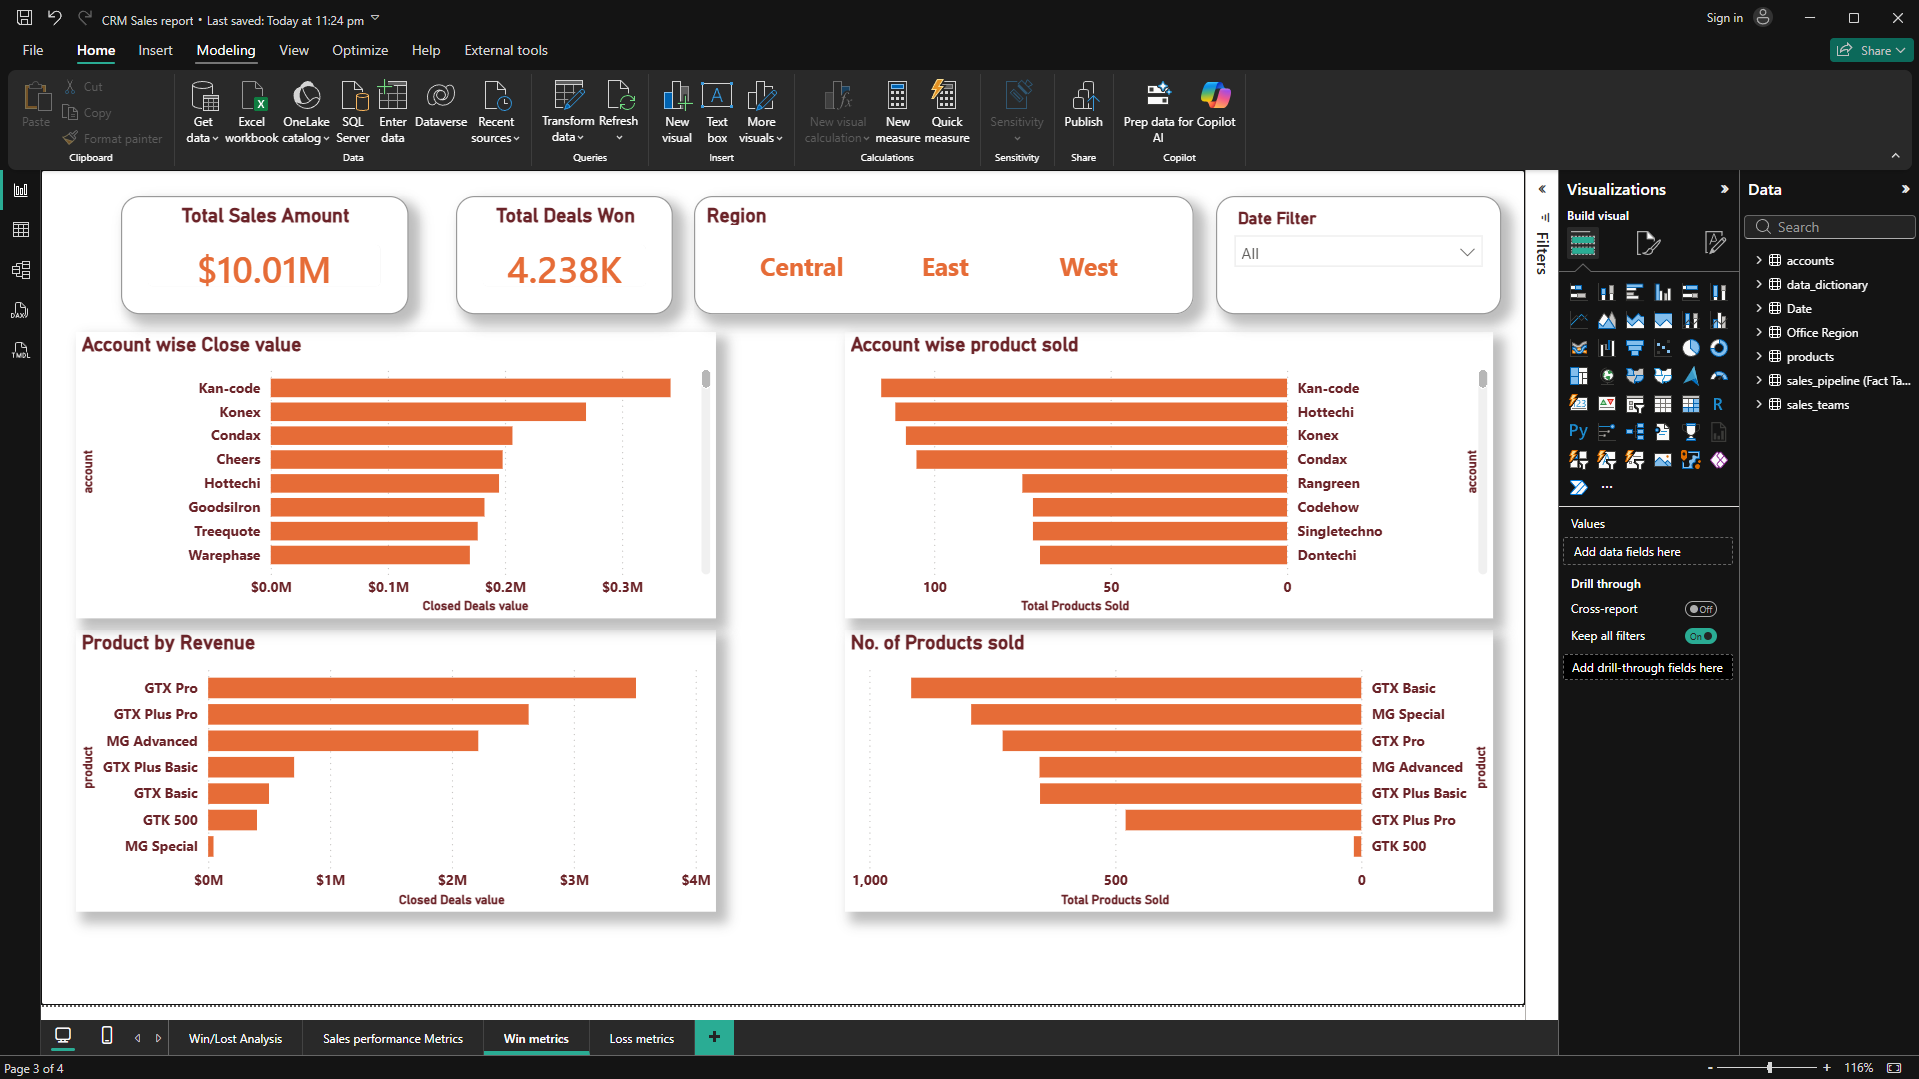

Layout of this report page (visuals, bound fields, positions):
{"tool":"powerbi","page":{"name":"Win metrics","canvas":[1280,720],"ordinal":2},"visuals":[{"type":"barChart","title":"Product by Revenue","fields":{"Category":["products.product"],"Y":["sales_pipeline (Fact Table).Closed Deals value"]},"box":[30.2,396.8,552.5,243.2],"z":0},{"type":"barChart","title":"No. of Products sold","fields":{"Category":["products.product"],"Y":["sales_pipeline (Fact Table).Win Oppertunities"]},"box":[693.5,396.8,559.3,243.2],"z":1000},{"type":"barChart","title":"Account wise Close value","fields":{"Category":["accounts.account"],"Y":["sales_pipeline (Fact Table).Closed Deals value"]},"box":[30.2,140.1,552.5,247.1],"z":2000},{"type":"barChart","title":"Account wise product sold","fields":{"Category":["accounts.account"],"Y":["sales_pipeline (Fact Table).Win Oppertunities"]},"box":[693.5,140.1,559.3,247.1],"z":3000},{"type":"slicer","fields":{"Values":["Date.Date.Variation.Date Hierarchy.Quarter","Date.Date.Variation.Date Hierarchy.Month"]},"box":[1013.5,22.4,245.8,101.8],"z":4000},{"type":"cardVisual","title":"Total Sales Amount","fields":{"Data":["sales_pipeline (Fact Table).Closed Deals value"]},"box":[68.9,22.1,247.5,101.8],"z":5000},{"type":"cardVisual","title":"Total Deals Won","fields":{"Data":["sales_pipeline (Fact Table).Win Oppertunities"]},"box":[358,22.4,187.2,101.8],"z":6000},{"type":"slicer","title":"Region","fields":{"Values":["sales_teams.regional_office"]},"box":[563.2,22.4,431.3,101.8],"z":7000}]}

Visuals, with their boxes on the page's 1280x720 design canvas (x1, y1, x2, y2). These are canvas units, not pixel positions in the 1919x1079 screenshot, which may show the page scaled, cropped or inside an application window:
"Product by Revenue" barChart: [x1=30, y1=397, x2=583, y2=640]
"No. of Products sold" barChart: [x1=694, y1=397, x2=1253, y2=640]
"Account wise Close value" barChart: [x1=30, y1=140, x2=583, y2=387]
"Account wise product sold" barChart: [x1=694, y1=140, x2=1253, y2=387]
slicer - Date.Date.Variation.Date Hierarchy.Quarter x Date.Date.Variation.Date Hierarchy.Month: [x1=1014, y1=22, x2=1259, y2=124]
"Total Sales Amount" cardVisual: [x1=69, y1=22, x2=316, y2=124]
"Total Deals Won" cardVisual: [x1=358, y1=22, x2=545, y2=124]
"Region" slicer: [x1=563, y1=22, x2=994, y2=124]
